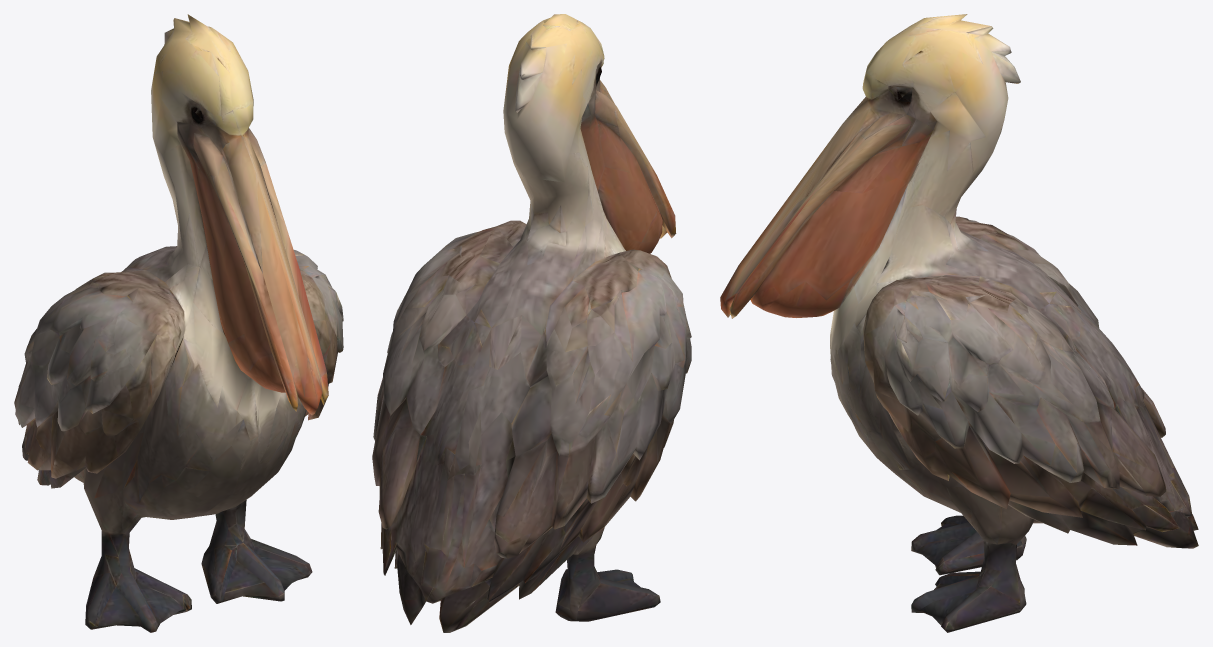
Rendered from pelican.glb.
3 renders of one model, left to right at view 1: azimuth 30°, elevation 25°; view 2: azimuth 150°, elevation 25°; view 3: azimuth 270°, elevation 25°, orthographic. The views are drawn at different scales.
Parts seen in each view (by area): view 1: pelican; view 2: pelican; view 3: pelican.
Part boxes in pixels (x1,y1,x2,y2): pelican: (14, 14, 343, 632); pelican: (372, 14, 691, 632); pelican: (720, 14, 1198, 632).
Bounding box in the file's own units: 0.4862 × 1 × 0.7648.
Materials: 1 (1 with a texture image).
